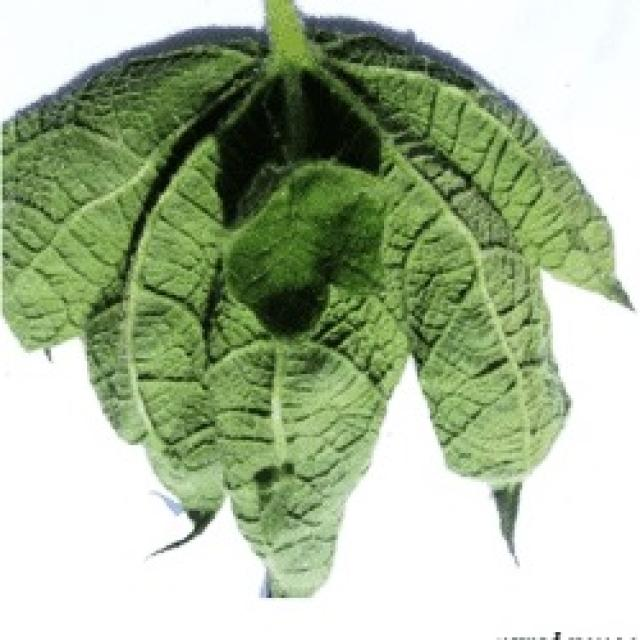Leaf Curl Virus: (55, 76, 552, 444)
